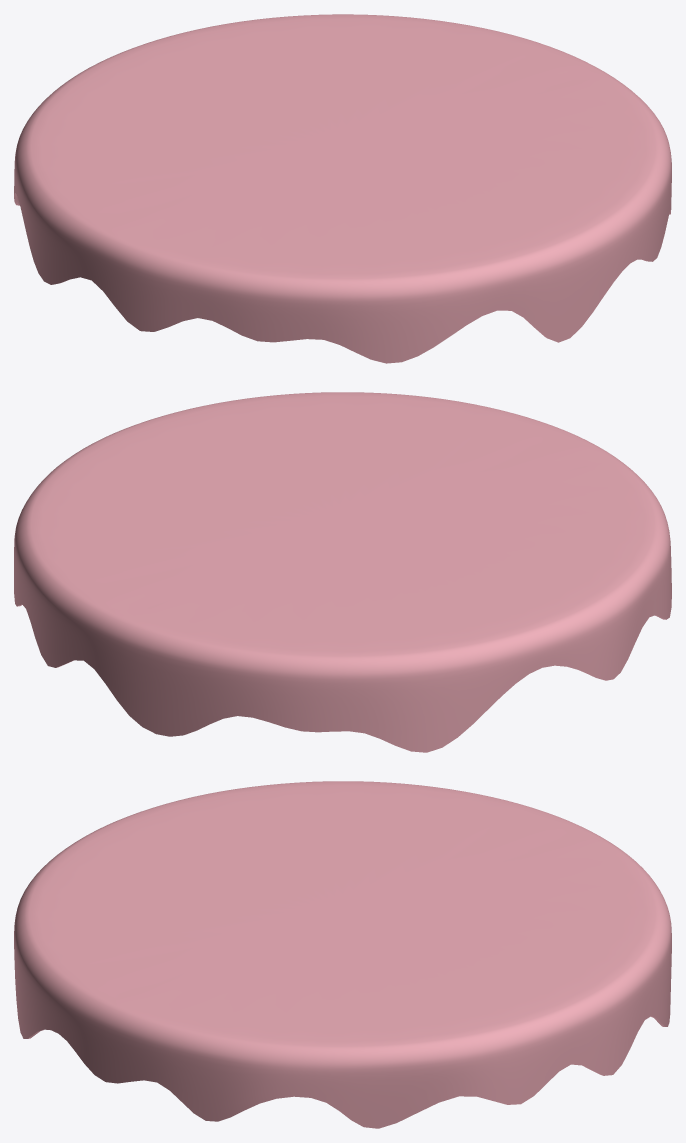
Rendered from cakeGlazePink.glb.
The picture shows the model from 3 angles, top to bottom: view 1: azimuth 30°, elevation 25°; view 2: azimuth 150°, elevation 25°; view 3: azimuth 270°, elevation 25°; orthographic projection.
Visible parts, largest first — view 1: Cylinder.003; view 2: Cylinder.003; view 3: Cylinder.003.
Part boxes in pixels (left/top/right/bottom): Cylinder.003: left=14, top=14, right=671, bottom=363; Cylinder.003: left=14, top=392, right=671, bottom=752; Cylinder.003: left=14, top=781, right=671, bottom=1128.
Size of the model in its own units: 2 by 0.328 by 1.99.
